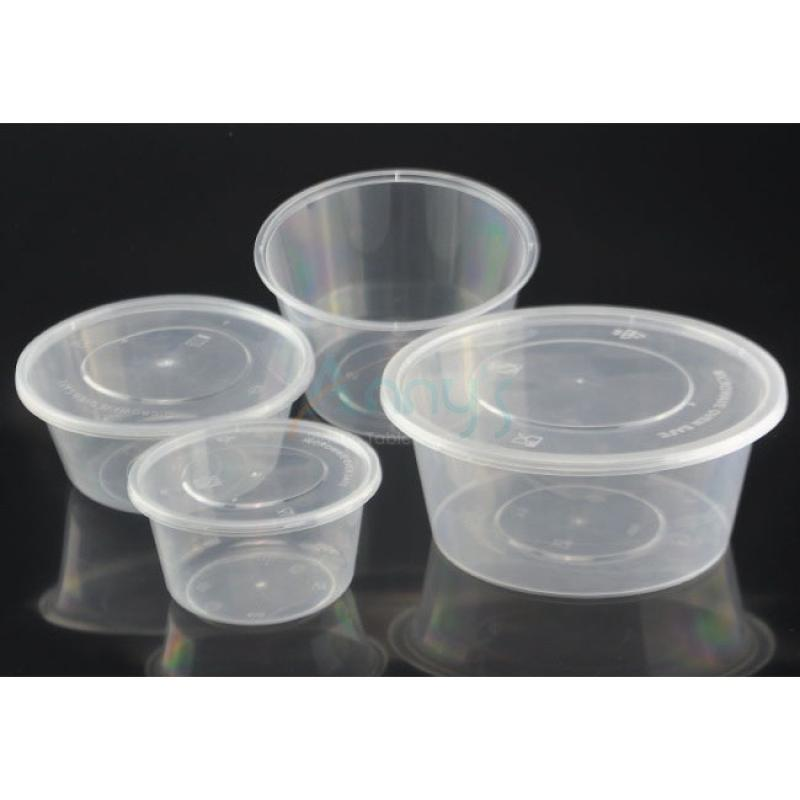plastic container: (379, 305, 789, 600), (253, 169, 541, 445), (15, 294, 316, 514), (126, 418, 382, 628)
